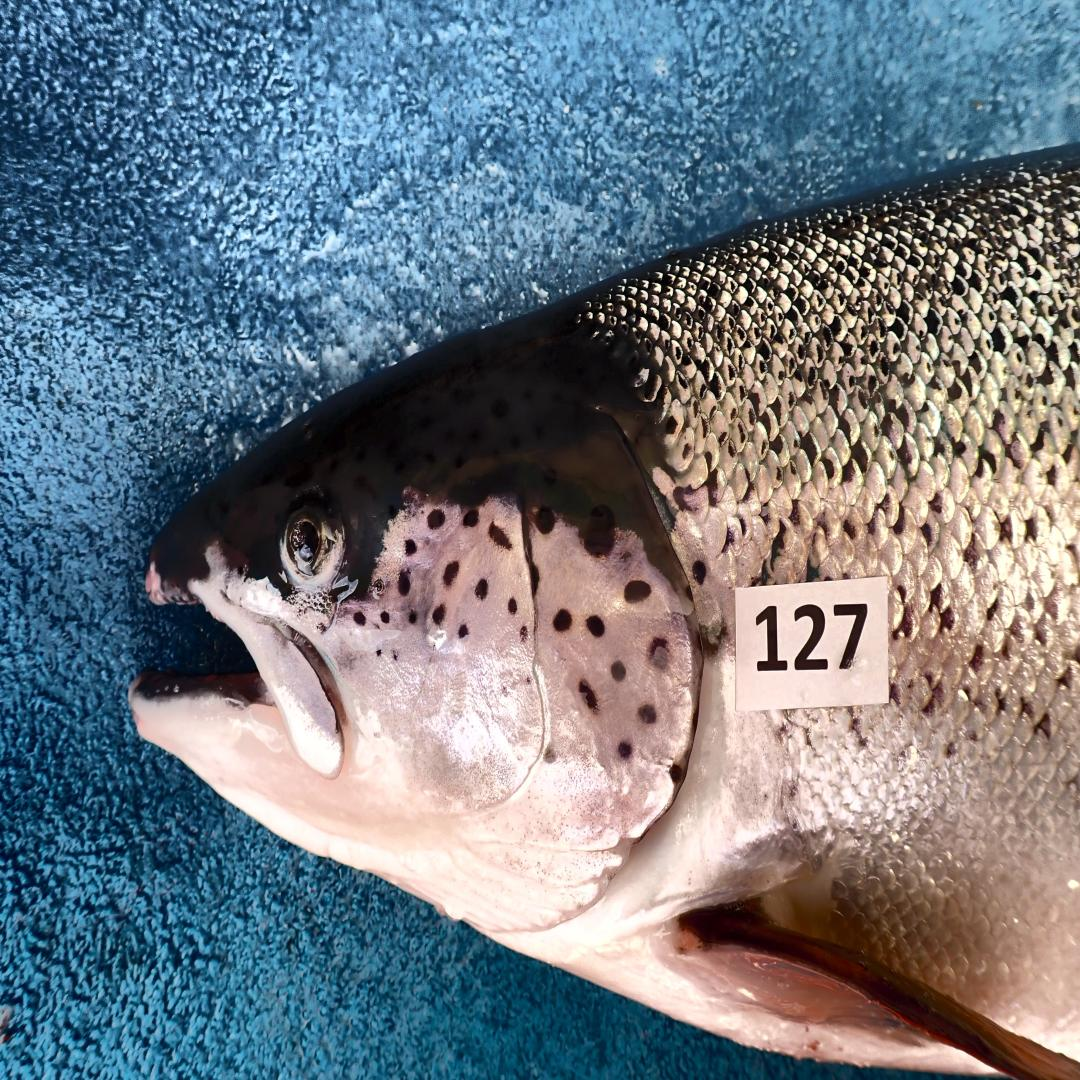spot: (582, 503, 616, 557), (624, 579, 652, 605), (487, 523, 513, 548), (649, 638, 669, 670), (578, 681, 597, 712), (536, 506, 555, 534), (553, 608, 572, 633), (443, 560, 460, 585), (637, 703, 658, 723), (586, 616, 605, 638), (426, 509, 445, 529), (529, 565, 540, 596), (399, 571, 411, 596), (542, 745, 557, 765), (462, 509, 479, 526), (618, 740, 633, 759), (612, 661, 626, 681), (669, 765, 683, 785), (405, 537, 418, 557), (432, 605, 445, 624), (475, 579, 487, 599), (352, 610, 367, 624), (372, 577, 385, 593), (620, 548, 633, 562), (407, 608, 418, 624), (519, 624, 529, 641), (508, 596, 517, 613), (458, 624, 468, 638), (380, 610, 390, 624), (373, 644, 382, 658), (371, 622, 382, 633), (500, 683, 510, 695), (390, 650, 399, 661), (424, 534, 432, 546), (525, 675, 534, 683), (420, 506, 424, 515)
